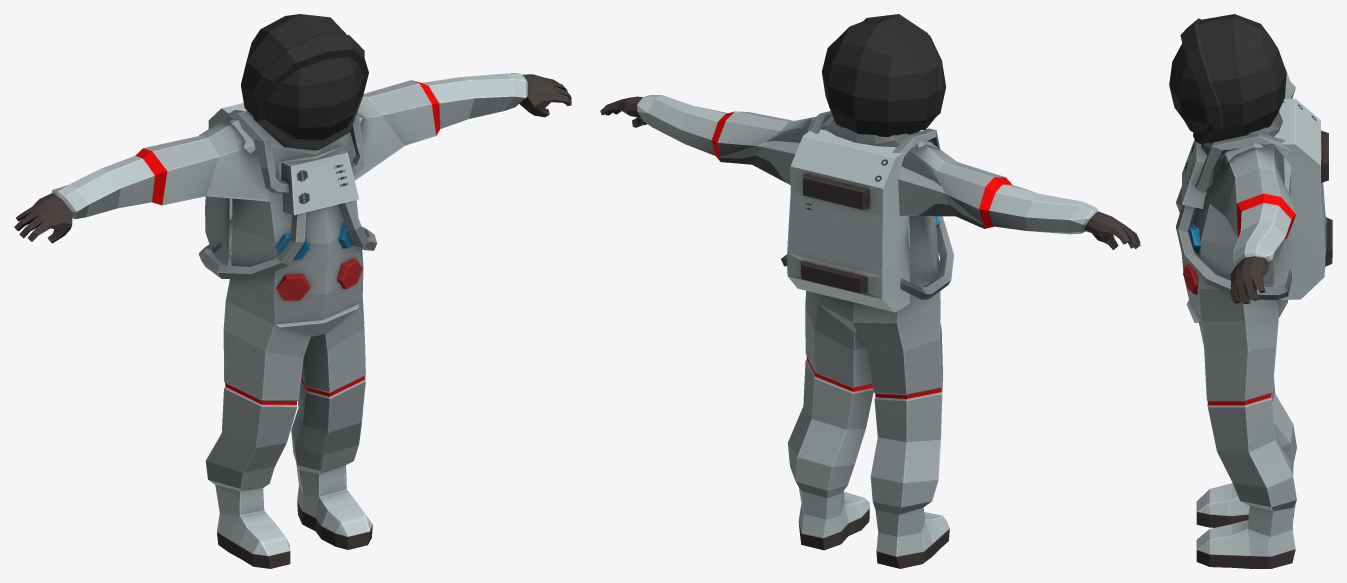
Rendered from ASTRONOT.fbx.
The picture shows the model from 3 angles, left to right: view 1: azimuth 30°, elevation 25°; view 2: azimuth 150°, elevation 25°; view 3: azimuth 270°, elevation 25°; orthographic projection. The views are drawn at different scales.
Parts seen in each view (by area): view 1: 000_Astronaut.001, 000_Astronaut.003, 000_Astronaut.012, 000_Astronaut.002, 000_Astronaut.010; view 2: 000_Astronaut.001, 000_Astronaut.002, 000_Astronaut.003, 000_Astronaut.012; view 3: 000_Astronaut.001, 000_Astronaut.003, 000_Astronaut.002, 000_Astronaut.012, 000_Astronaut.007, 000_Astronaut.006.
Part boxes in pixels (box(x1,y1,x2,y2)): 000_Astronaut.001: box(14, 73, 571, 568); 000_Astronaut.003: box(241, 14, 368, 150); 000_Astronaut.012: box(198, 110, 377, 279); 000_Astronaut.002: box(205, 103, 246, 265); 000_Astronaut.010: box(276, 273, 310, 300); 000_Astronaut.001: box(600, 95, 1140, 568); 000_Astronaut.002: box(787, 129, 909, 312); 000_Astronaut.003: box(822, 14, 945, 136); 000_Astronaut.012: box(781, 111, 953, 299); 000_Astronaut.001: box(1181, 66, 1296, 568); 000_Astronaut.003: box(1169, 14, 1286, 144); 000_Astronaut.002: box(1273, 98, 1332, 300); 000_Astronaut.012: box(1175, 101, 1291, 299); 000_Astronaut.007: box(1183, 263, 1198, 294); 000_Astronaut.006: box(1188, 223, 1201, 253).
Bounding box in the file's own units: 4388 × 4021 × 1145.
Materials: 5 (3 with a texture image).
